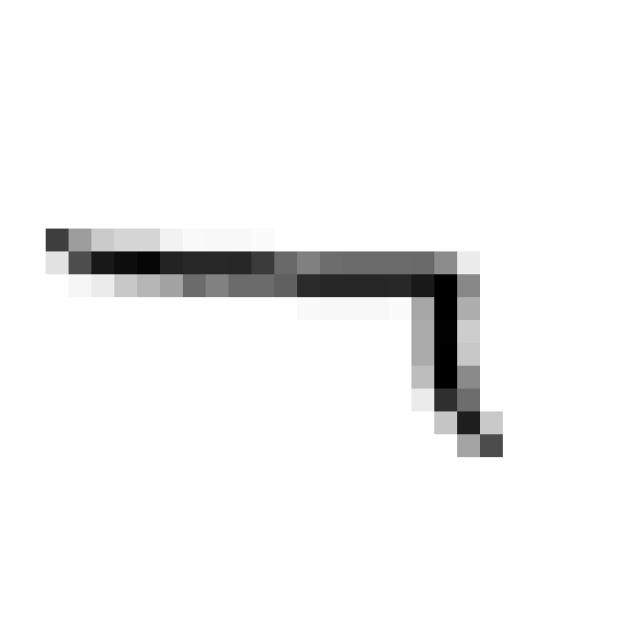6 -six-: (25, 205, 518, 478)
